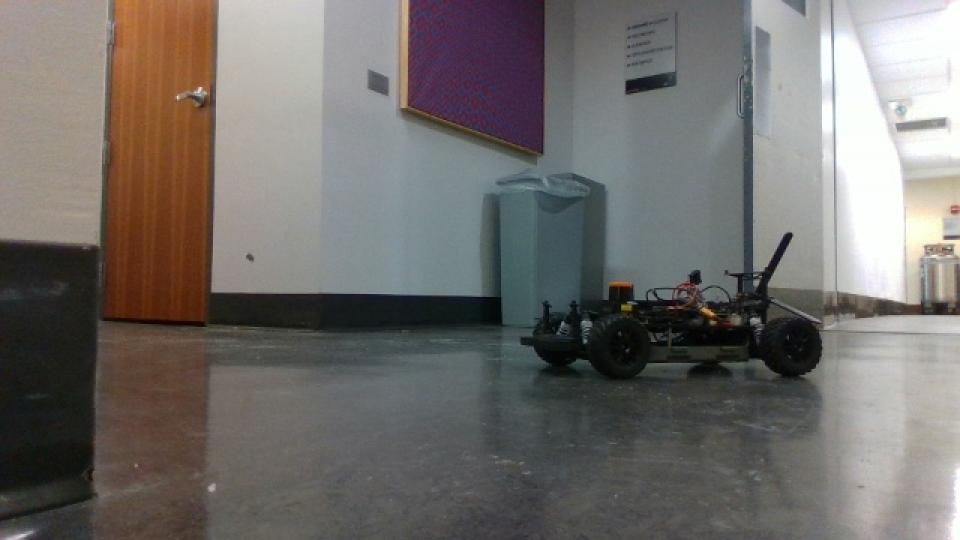car: (517, 230, 825, 382)
